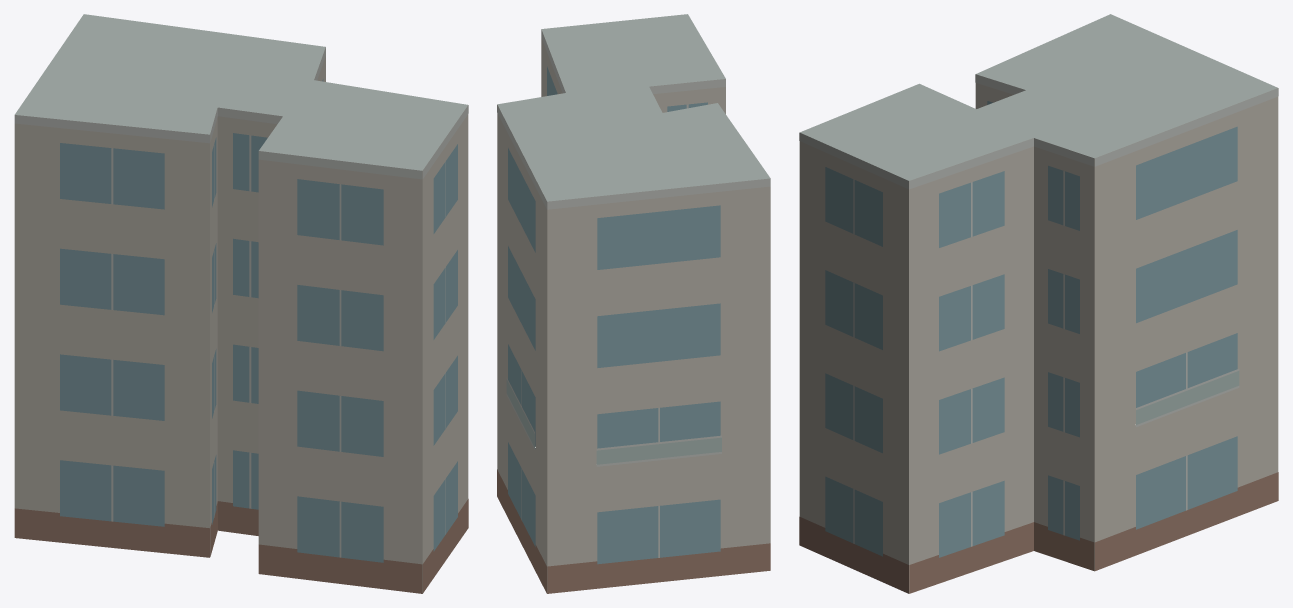
File: survey-upis-33007124.glb
3 views of the same model, side by side, from view 1: azimuth 30°, elevation 25°; view 2: azimuth 150°, elevation 25°; view 3: azimuth 270°, elevation 25° (orthographic). The views are drawn at different scales.
Visible parts, largest first — view 1: survey-upis-33007124.tmp; view 2: survey-upis-33007124.tmp; view 3: survey-upis-33007124.tmp.
Part boxes in pixels (x1=…): survey-upis-33007124.tmp: x1=14, y1=14, x2=468, y2=593; survey-upis-33007124.tmp: x1=497, y1=14, x2=770, y2=593; survey-upis-33007124.tmp: x1=799, y1=14, x2=1278, y2=593.
Size of the model in its own units: 10.33 by 11.9 by 12.52.
